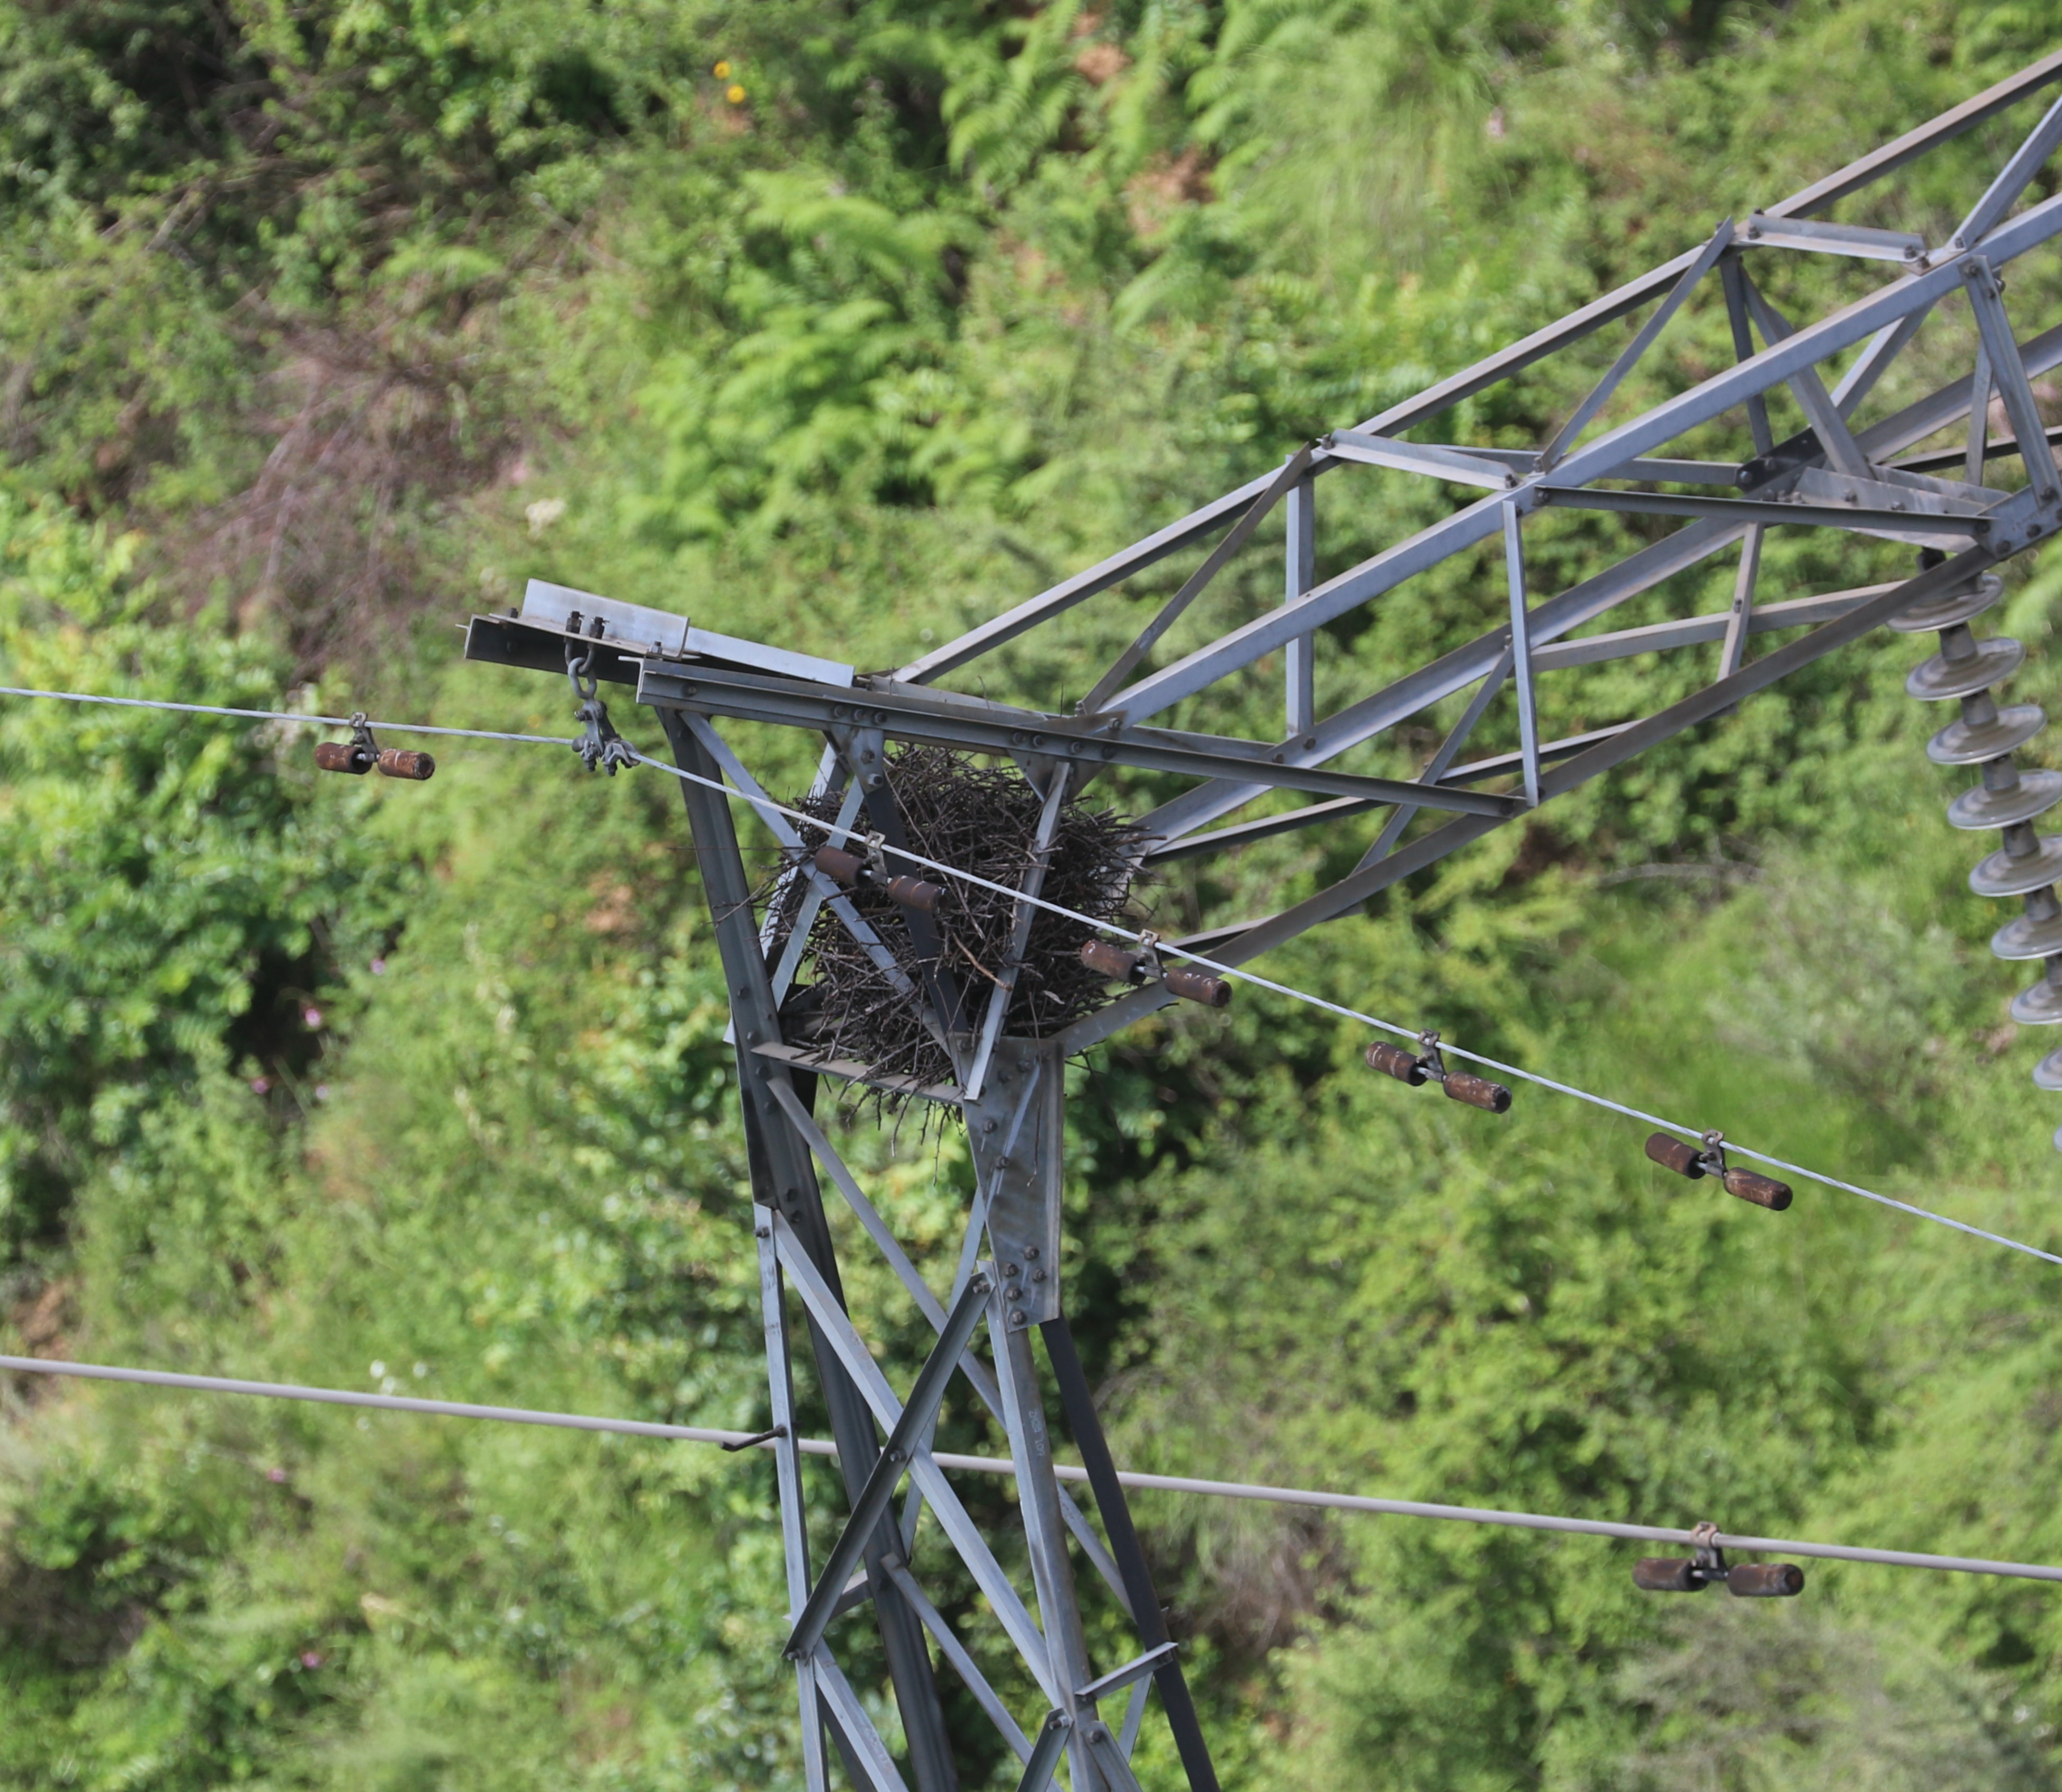niaowo: (719, 717, 1166, 1092)
